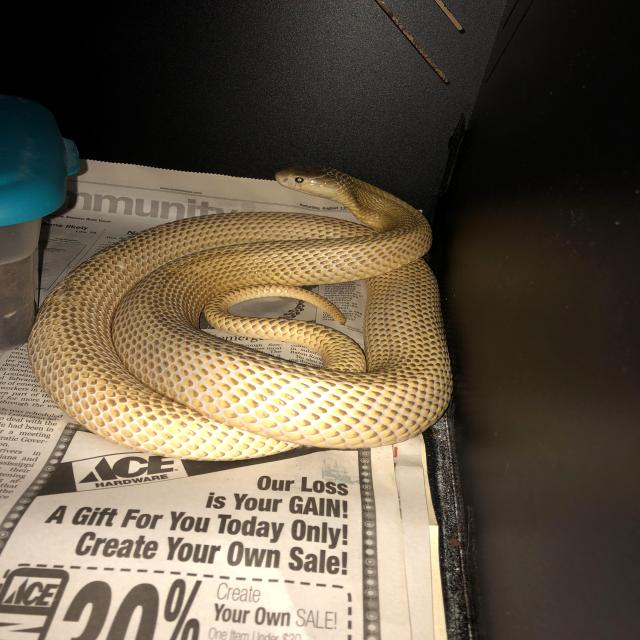Naja kaouthia: (29, 167, 451, 460)
